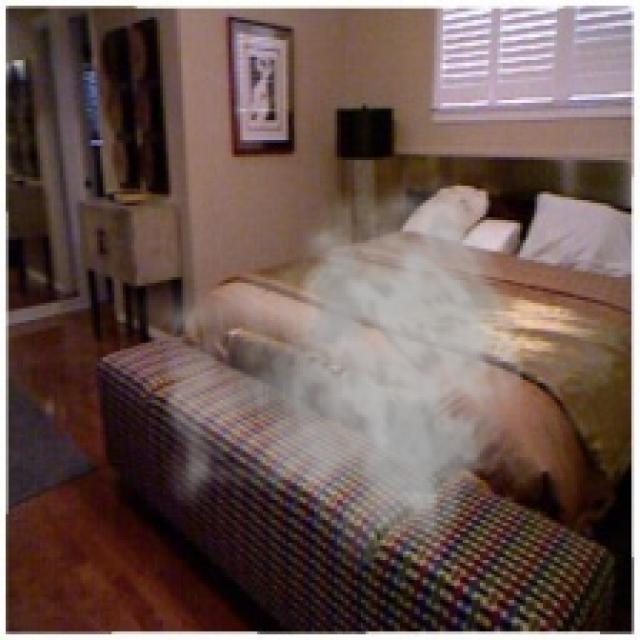smoke: (128, 171, 526, 580)
